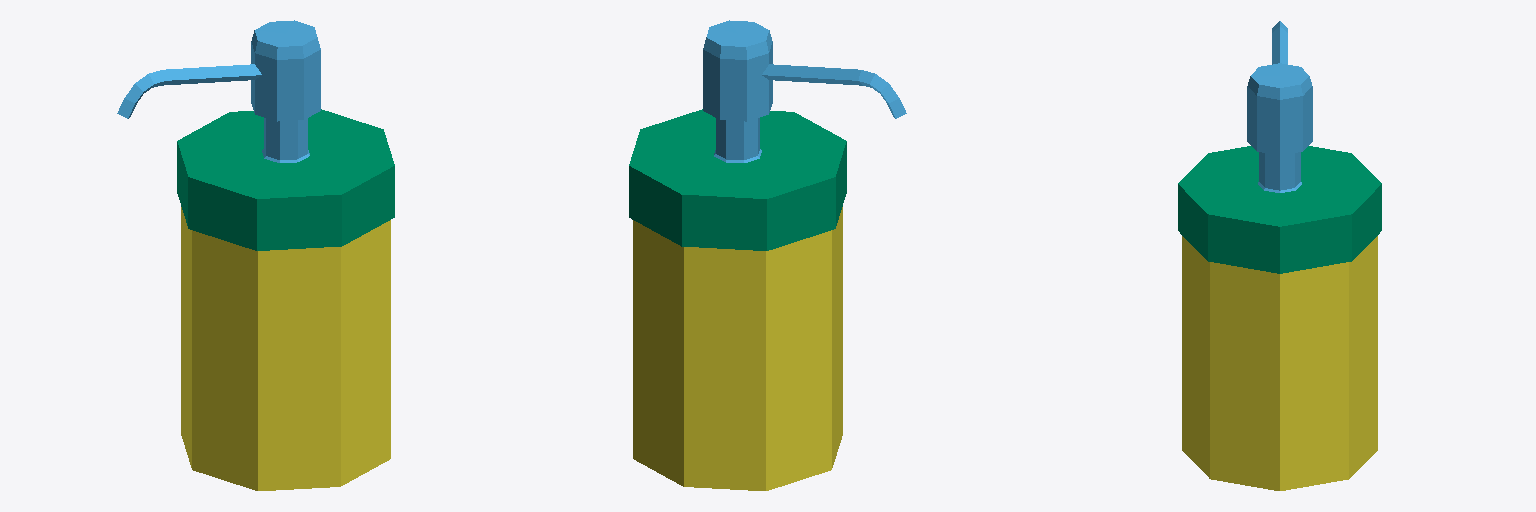
URDF robot description (partnet_5d80c1b5-bbcc-4066-9103-2460992ace27):
<?xml version="1.0" ?>
<robot name="partnet_5d80c1b5-bbcc-4066-9103-2460992ace27">
	<link name="base"/>
	<link name="link_0">
		<visual name="pressing_lid-1">
			<origin xyz="0.002186500000000001 0 0.009778999997167189"/>
			<geometry>
				<mesh filename="textured_objs/original-2.obj"/>
			</geometry>
		</visual>
		<visual name="pressing_lid-1">
			<origin xyz="0.002186500000000001 0 0.009778999997167189"/>
			<geometry>
				<mesh filename="textured_objs/original-8.obj"/>
			</geometry>
		</visual>
		<visual name="pressing_lid-1">
			<origin xyz="0.002186500000000001 0 0.009778999997167189"/>
			<geometry>
				<mesh filename="textured_objs/original-6.obj"/>
			</geometry>
		</visual>
		<!-- <collision>
			<origin xyz="0.002186500000000001 0 0.009778999997167189"/>
			<geometry>
				<mesh filename="textured_objs/original-2.obj"/>
			</geometry>
		</collision> -->
		<collision>
			<origin xyz="0.002186500000000001 0 0.009778999997167189"/>
			<geometry>
				<mesh filename="textured_objs/original-8.obj"/>
			</geometry>
		</collision>
		<collision>
			<origin xyz="0.002186500000000001 0 0.009778999997167189"/>
			<geometry>
				<mesh filename="textured_objs/original-6.obj"/>
			</geometry>
		</collision>
	</link>
	<joint name="joint_0" type="fixed">
		<origin xyz="0.0 0 0.0"/>
		<axis xyz="0 1 0"/>
		<child link="link_0"/>
		<parent link="link_0_helper"/>
	</joint>
	<link name="link_1">
		<visual name="head-3">
			<origin xyz="0.0016189564690488947 0 0.009924500000000003"/>
			<geometry>
				<mesh filename="textured_objs/original-7.obj"/>
			</geometry>
		</visual>
		<!-- <collision>
			<origin xyz="0.0016189564690488947 0 0.009924500000000003"/>
			<geometry>
				<mesh filename="textured_objs/original-7.obj"/>
			</geometry>
		</collision> -->
	</link>
	<joint name="joint_1" type="fixed">
		<origin xyz="0.0 0 0.0"/>
		<axis xyz="0 -1 0"/>
		<child link="link_1"/>
		<parent link="link_1_helper"/>
	</joint>
	<link name="link_2">
		<!-- <visual name="base_body-4">
			<origin xyz="0 0 0"/>
			<geometry>
				<mesh filename="textured_objs/original-4.obj"/>
			</geometry>
		</visual> -->
		<!-- <visual name="base_body-4">
			<origin xyz="0 0 0"/>
			<geometry>
				<mesh filename="textured_objs/original-3.obj"/>
			</geometry>
		</visual> -->
		<!-- <visual name="base_body-4">
			<origin xyz="0 0 0"/>
			<geometry>
				<mesh filename="textured_objs/original-9.obj"/>
			</geometry>
		</visual> -->
		<!-- <visual name="base_body-4">
			<origin xyz="0 0 0"/>
			<geometry>
				<mesh filename="textured_objs/original-5.obj"/>
			</geometry>
		</visual> -->
		<visual name="base_body-4">
			<origin xyz="0 0 0"/>
			<geometry>
				<mesh filename="textured_objs/original-1.obj"/>
			</geometry>
		</visual>
		<!-- <collision>
			<origin xyz="0 0 0"/>
			<geometry>
				<mesh filename="textured_objs/original-4.obj"/>
			</geometry>
		</collision>
		<collision>
			<origin xyz="0 0 0"/>
			<geometry>
				<mesh filename="textured_objs/original-3.obj"/>
			</geometry>
		</collision>
		<collision>
			<origin xyz="0 0 0"/>
			<geometry>
				<mesh filename="textured_objs/original-9.obj"/>
			</geometry>
		</collision>
		<collision>
			<origin xyz="0 0 0"/>
			<geometry>
				<mesh filename="textured_objs/original-5.obj"/>
			</geometry>
		</collision> -->
		<collision>
			<origin xyz="0 0 0"/>
			<geometry>
				<mesh filename="textured_objs/original-1.obj"/>
			</geometry>
		</collision>
	</link>
	<joint name="joint_2" type="fixed">
		<origin rpy="1.570796326794897 0 -1.570796326794897" xyz="0 0 0"/>
		<child link="link_2"/>
		<parent link="base"/>
	</joint>
	<link name="link_0_helper"/>
	<joint name="joint_3" type="prismatic">
		<origin xyz="-0.0005675435309511062 0 0.00014550000283281364"/>
		<axis xyz="0 -1 0"/>
		<child link="link_0_helper"/>
		<parent link="link_1"/>
		<limit lower="0" upper="0.17"/>
	</joint>
	<link name="link_1_helper"/>
	<joint name="joint_4" type="fixed">
		<origin xyz="-0.0016189564690488947 0 -0.009924500000000003"/>
		<axis xyz="0 1 0"/>
		<child link="link_1_helper"/>
		<parent link="link_2"/>
		<limit lower="0" upper="0.19999999999999996"/>
	</joint>
</robot>

--- Render facts (derived) ---
The picture shows the robot from 3 angles, left to right: view 1: azimuth 30°, elevation 25°; view 2: azimuth 150°, elevation 25°; view 3: azimuth 270°, elevation 25°; orthographic projection.
Model partnet_5d80c1b5-bbcc-4066-9103-2460992ace27 with 6 links and 5 joints (1 prismatic, 4 fixed), rooted at base, posed all joints at 0.
Visible links, largest first — view 1: link_2, link_1, link_0; view 2: link_2, link_1, link_0; view 3: link_2, link_1, link_0.
Link boxes in pixels (<box>): link_2: <box>181,207,390,490</box>; link_1: <box>177,109,394,250</box>; link_0: <box>117,20,320,162</box>; link_2: <box>633,207,842,490</box>; link_1: <box>629,109,846,250</box>; link_0: <box>703,20,906,162</box>; link_2: <box>1182,236,1377,490</box>; link_1: <box>1178,146,1381,273</box>; link_0: <box>1247,21,1312,192</box>.
Size in the robot's own frame: 1.07 by 0.7808 by 1.58 metres.
Meshes: 5 distinct files referenced, 5 mesh visuals loaded (5 OBJ).
